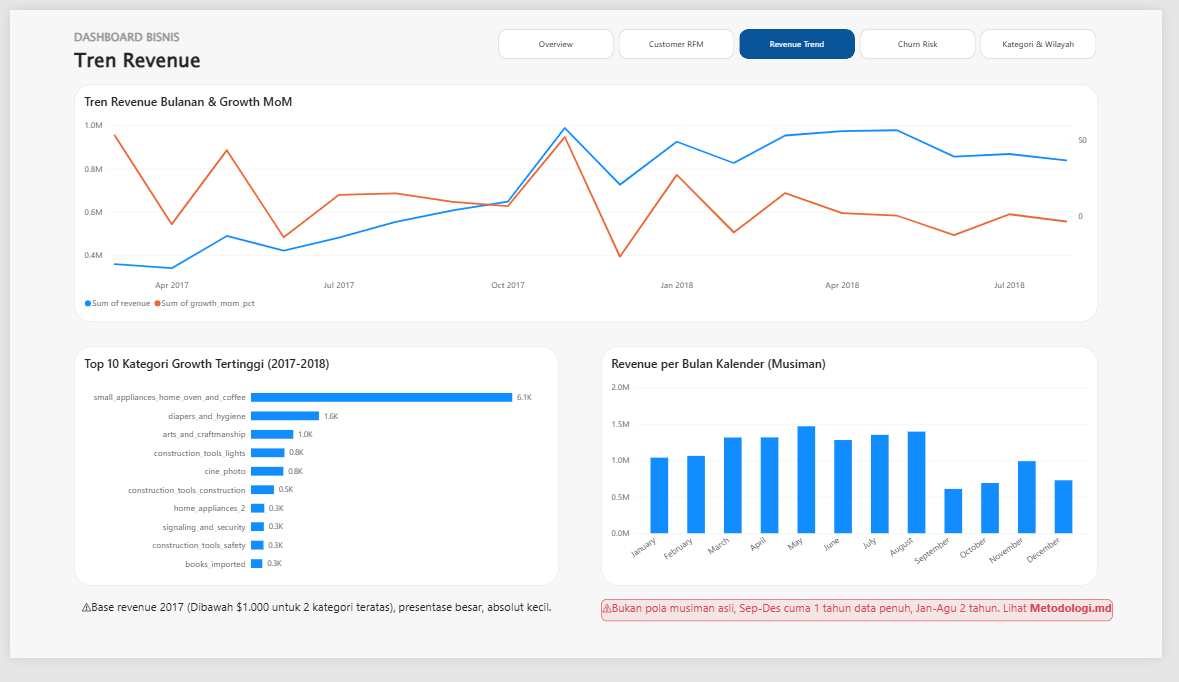

What the dashboard file says about the page in this screenshot:
{"tool":"powerbi","page":{"name":"Revenue Trend","canvas":[1920,1080],"ordinal":2},"visuals":[{"type":"lineChart","title":"Tren Revenue Bulanan & Growth MoM","fields":{"Category":["MonthlyRevenue.bulan.Variation.Date Hierarchy.Year"],"Y":["Sum(MonthlyRevenue.revenue)"],"Y2":["Sum(MonthlyRevenue.growth_mom_pct)"]},"box":[106.7,123.3,1706.7,396.7],"z":0},{"type":"barChart","title":"Top 10 Kategori Growth Tertinggi (2017-2018)","fields":{"Category":["CategoryGrowth.category"],"Y":["Sum(CategoryGrowth.growth_pct)"]},"box":[106.7,560,808.3,400],"z":1000},{"type":"clusteredColumnChart","title":"Revenue per Bulan Kalender (Musiman)","fields":{"Category":["Seasonality.nama_bulan"],"Y":["Sum(Seasonality.total_revenue)"]},"box":[985,560,828.3,400],"z":2000},{"type":"textbox","box":[106.7,31.7,300,91.7],"z":3000},{"type":"textbox","box":[106.7,981.7,808.3,36.7],"z":4000},{"type":"textbox","box":[985,981.7,853.3,36.7],"z":5000},{"type":"pageNavigator","box":[814.1,32.1,1000,50],"z":6000}]}

Visuals, with their boxes in screenshot pixels (x1, y1, x2, y2), scaled from the page's 1920x1080 canvas onto the 1179x682 screenshot:
"Tren Revenue Bulanan & Growth MoM" lineChart: select_region(66, 78, 1114, 328)
"Top 10 Kategori Growth Tertinggi (2017-2018)" barChart: select_region(66, 354, 562, 606)
"Revenue per Bulan Kalender (Musiman)" clusteredColumnChart: select_region(605, 354, 1113, 606)
textbox: select_region(66, 20, 250, 78)
textbox: select_region(66, 620, 562, 643)
textbox: select_region(605, 620, 1129, 643)
pageNavigator: select_region(500, 20, 1114, 52)
